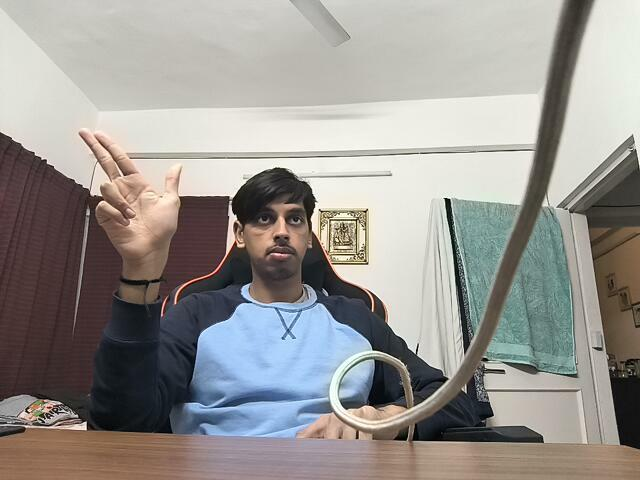FORWARD: (68, 119, 201, 264)
